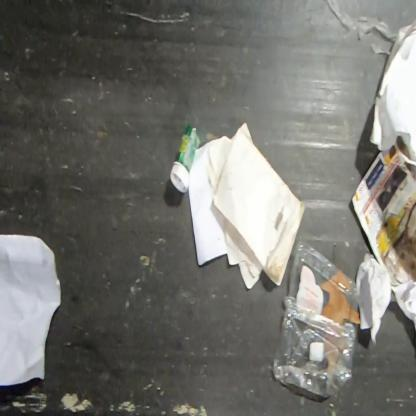cardboard: (367, 18, 415, 162)
rigid_plastic: (271, 232, 361, 400), (169, 124, 201, 194)
soft_plastic: (324, 0, 400, 56)
